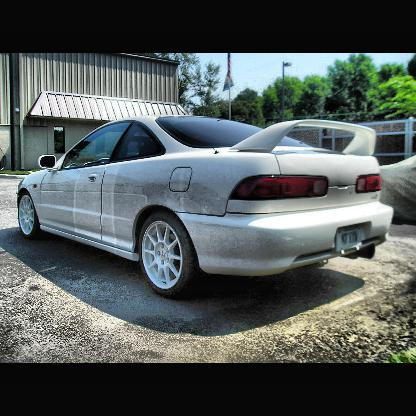Acura Integra Type R 2001: (18, 115, 393, 297)
